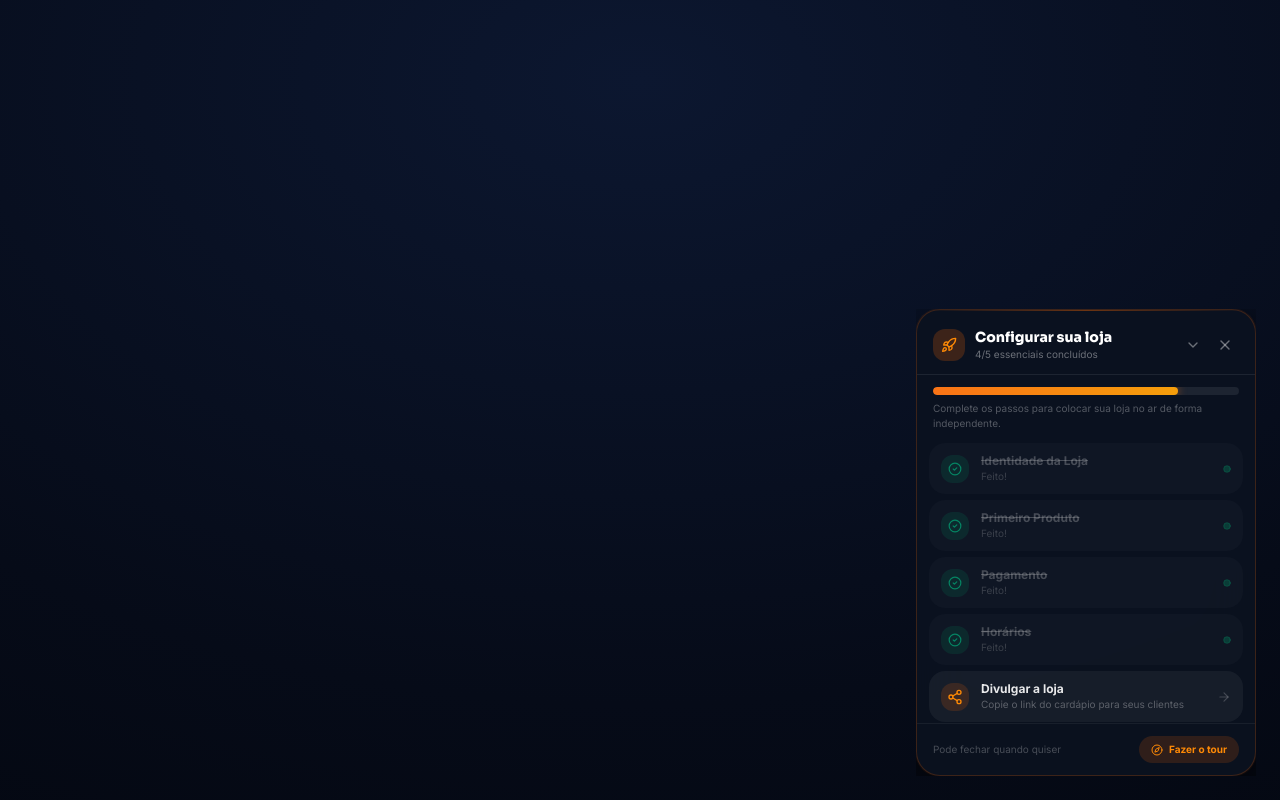
Scenario: configuração essencial da loja › reconhece contagens head:true e conclui sem as integrações opcionais após copiar o link
This screenshot has width=1280, height=800.
Expected: the text "4/5 essenciais concluídos" is shown, [975,347,1112,362]
Expected: the text "Configuração essencial concluída!" is not shown
Click the button "Divulgar a loja Copie o link do cardápio para seus clientes" at [1086, 696], box [929,671,1243,722]
(page scrolled)
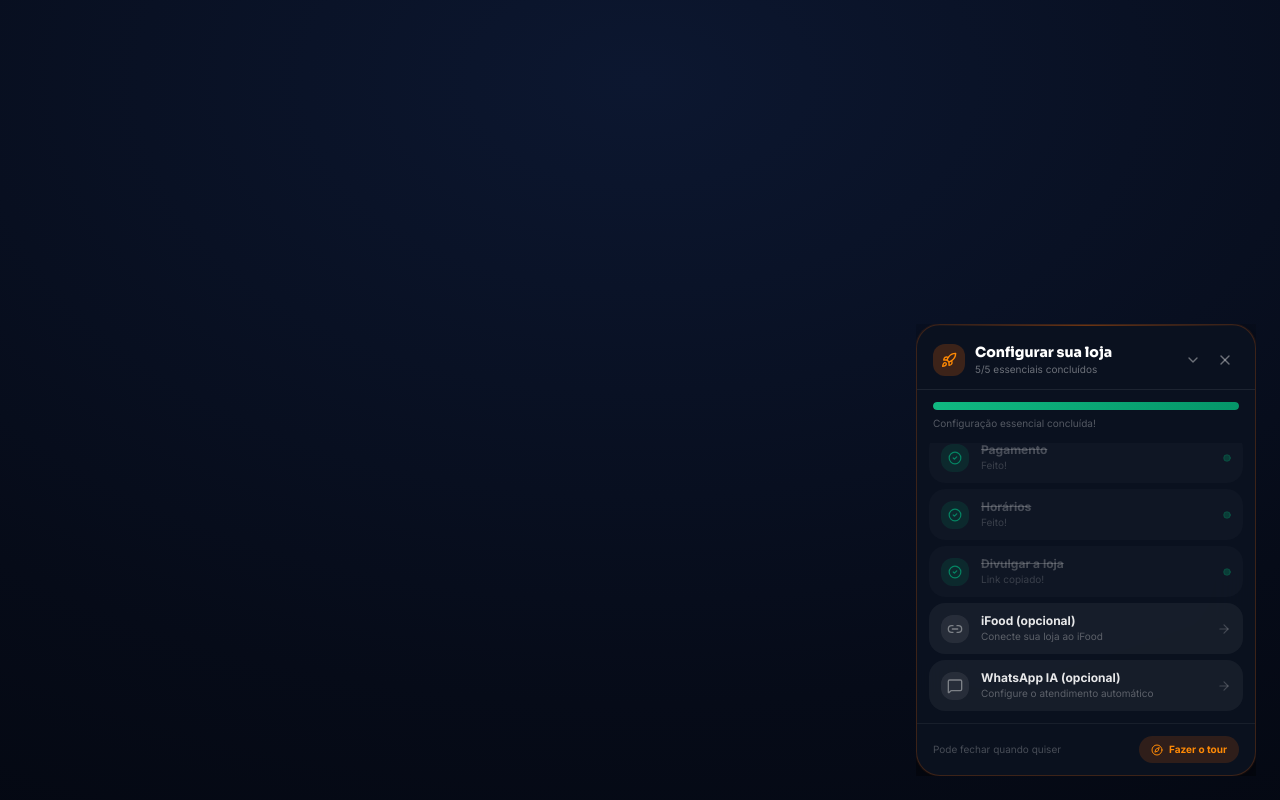
Expected: the text "5/5 essenciais concluídos" is shown, [975,362,1112,377]
Expected: the text "Configuração essencial concluída!" is shown, [933,417,1096,429]
Expected: the text "Conecte sua loja ao iFood" is shown, [981,630,1103,642]
